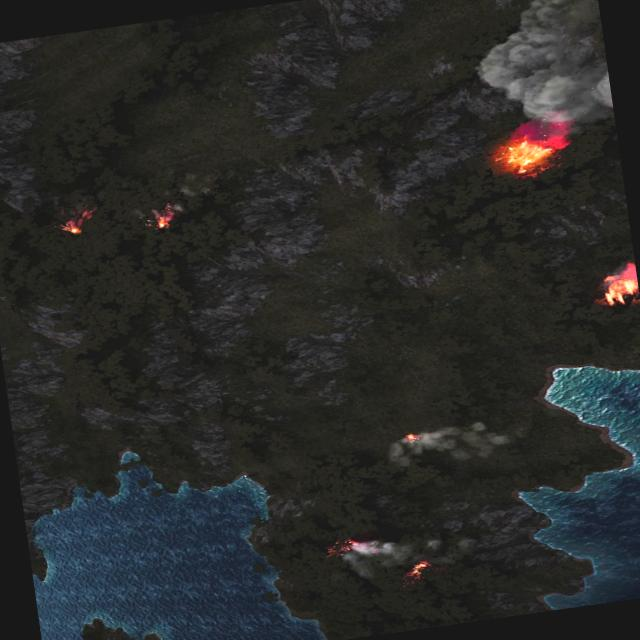fire: (498, 130, 566, 178), (598, 266, 640, 306), (62, 208, 99, 234), (324, 534, 360, 555), (150, 204, 177, 227), (405, 559, 431, 577), (403, 432, 420, 442)
smoke: (463, 0, 615, 145), (340, 524, 482, 580), (383, 415, 516, 471)
